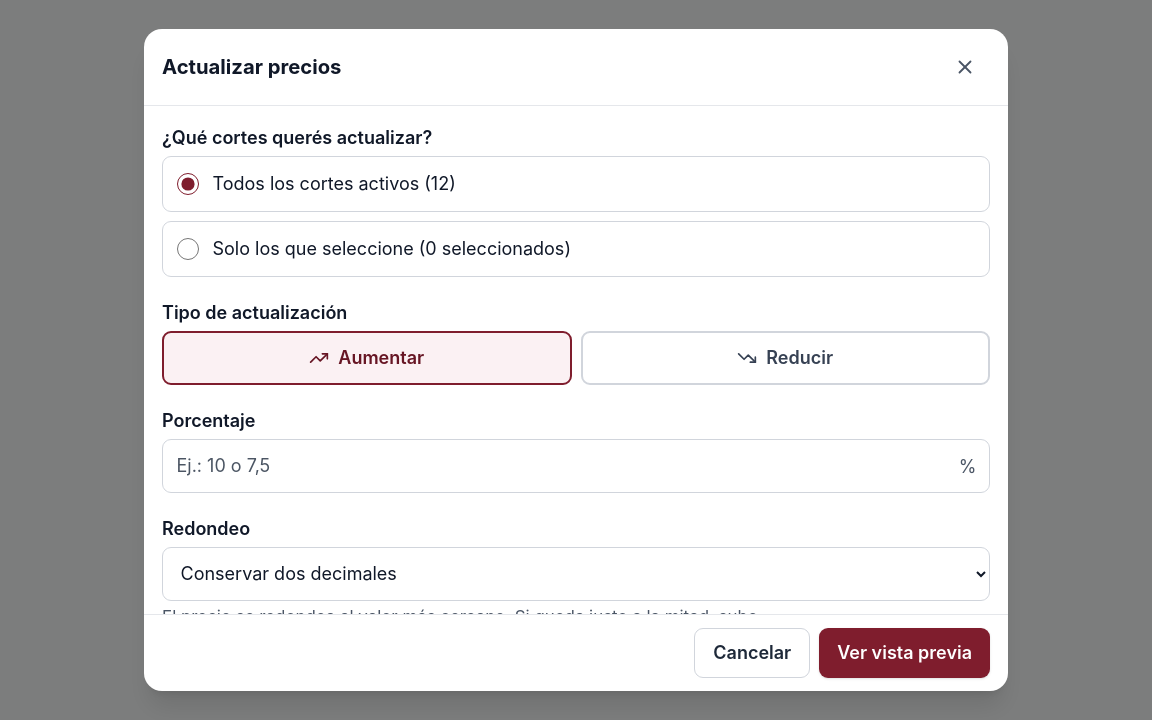
Scenario: BulkUpdateModal › no incluye los cortes inactivos
In the field labelled "Porcentaje": (576, 466) [162,439,990,493], type "10"
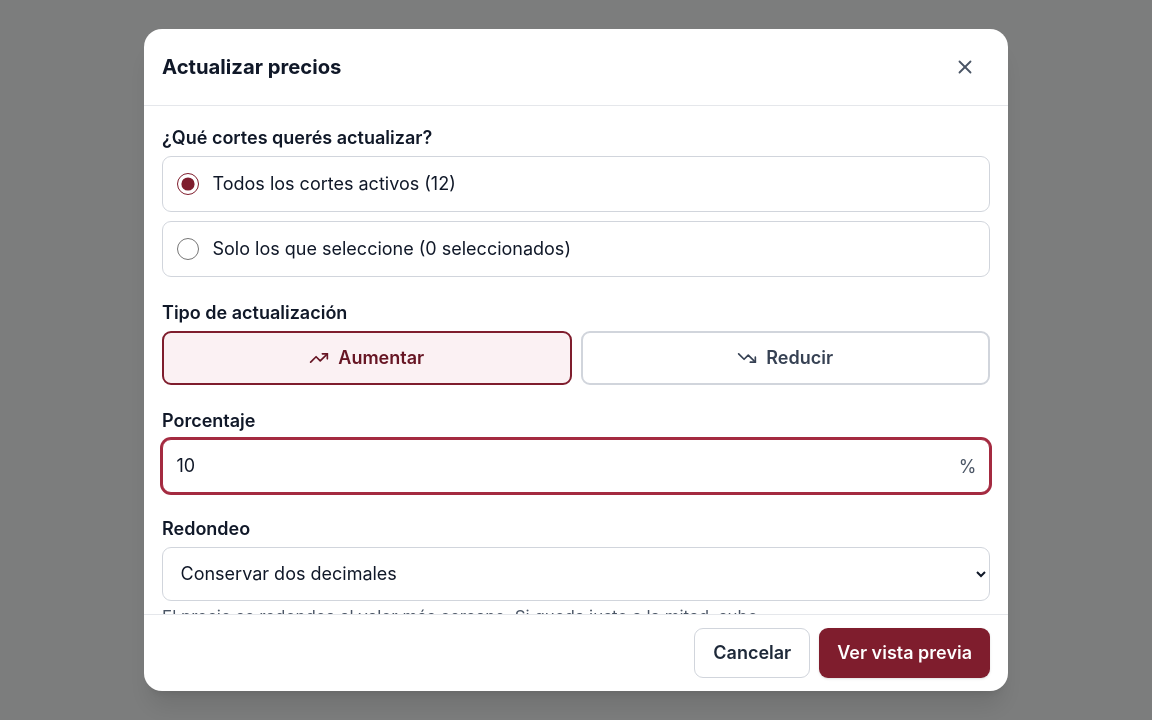
Click the button "Ver vista previa": click(905, 653) [819,628,990,678]
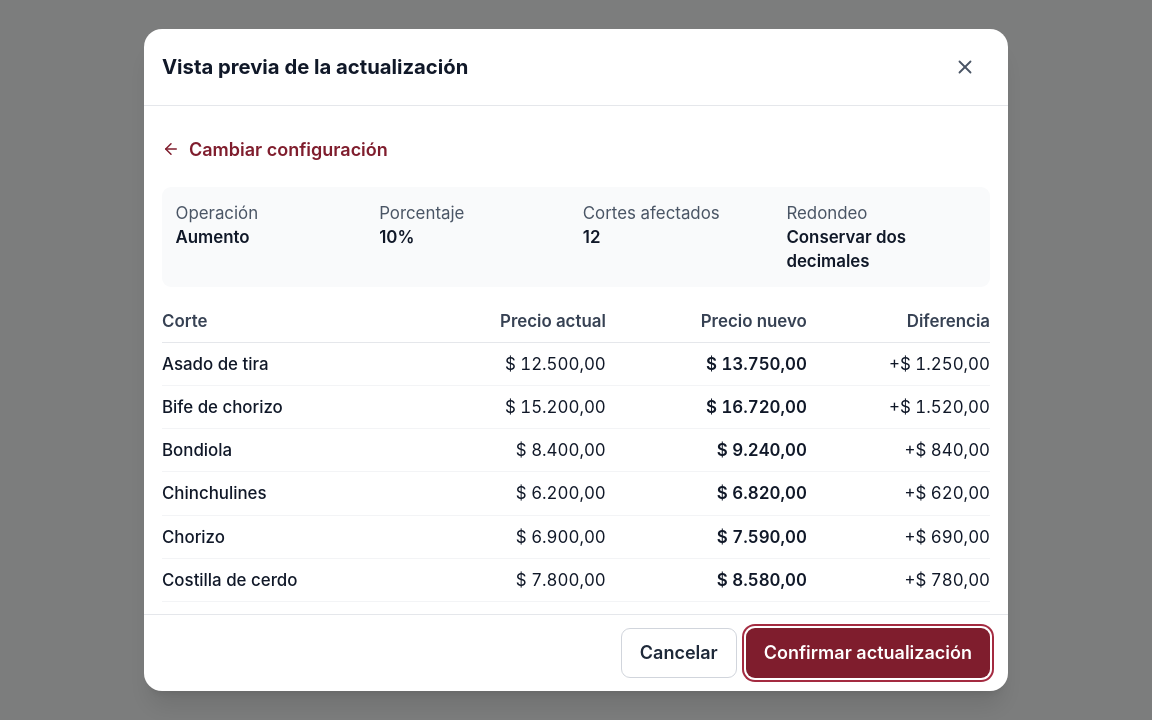
Expected: the text "Asado de tira" is shown, [162,343,419,386]
